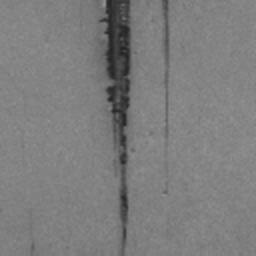Slag inclusion: (99, 0, 131, 247), (162, 0, 168, 17)
